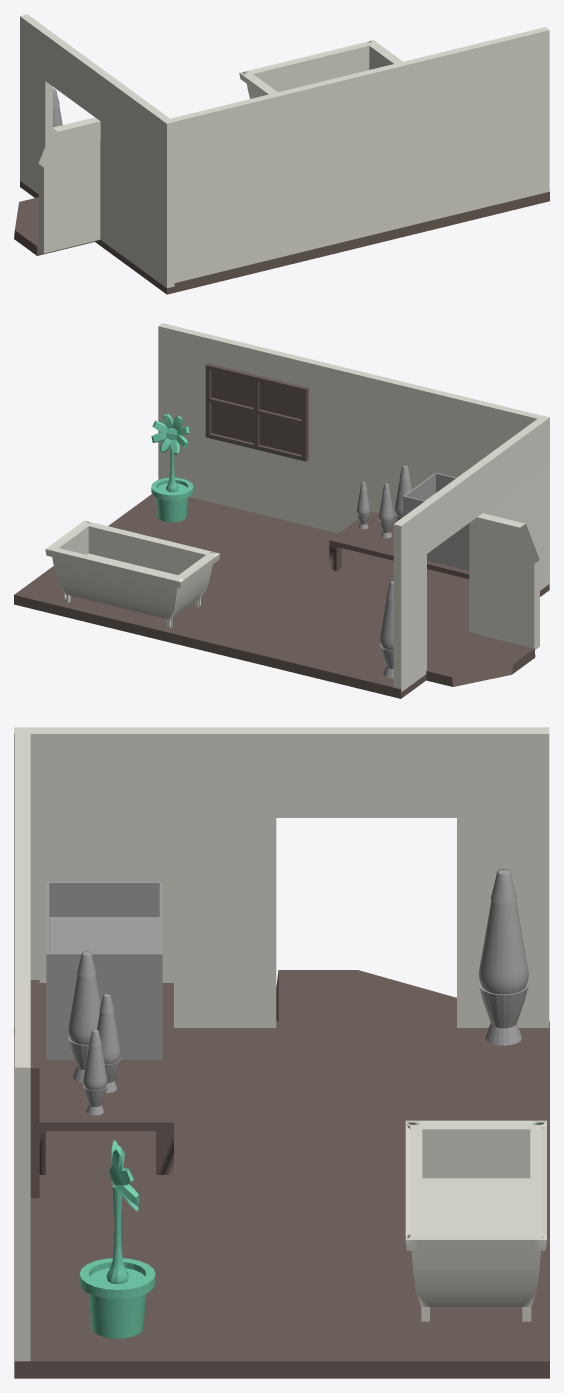
File: House_Bedroom.fbx
The picture shows the model from 3 angles, top to bottom: view 1: azimuth 30°, elevation 25°; view 2: azimuth 150°, elevation 25°; view 3: azimuth 270°, elevation 25°; orthographic projection. The views are drawn at different scales.
Visible parts, largest first — view 1: Wall_Bedroom, Floor, Bathtub1; view 2: Wall_Bedroom, Floor, Bathtub1, pCube24, Lavalamp6, Steve, Table_low, Fish_tank__no_fish_; view 3: Floor, Wall_Bedroom, Bathtub1, Fish_tank__no_fish_, Lavalamp6, Table_low, Steve, Water, pCube24.
Part boxes in pixels (x1,y1,x2,y2): Wall_Bedroom: (20,14,549,288); Floor: (14,181,549,294); Bathtub1: (239,40,402,98); Wall_Bedroom: (158,323,549,691); Floor: (14,494,549,698); Bathtub1: (45,520,219,627); pCube24: (205,363,308,461); Lavalamp6: (356,465,411,678); Steve: (151,414,193,522); Table_low: (329,511,469,578); Fish_tank__no_fish_: (403,472,469,570); Floor: (14,970,549,1378); Wall_Bedroom: (14,727,549,1361); Bathtub1: (405,1120,546,1321); Fish_tank__no_fish_: (46,881,162,1059); Lavalamp6: (68,869,528,1115); Table_low: (39,983,173,1174); Steve: (79,1140,155,1338); Water: (49,917,159,952); pCube24: (30,980,39,1198).
Size of the model in its own units: 1402 by 519 by 811.
